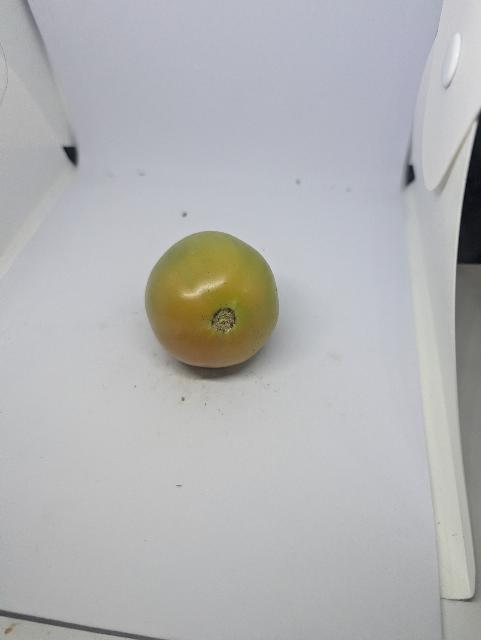breaker: (142, 227, 288, 376)
